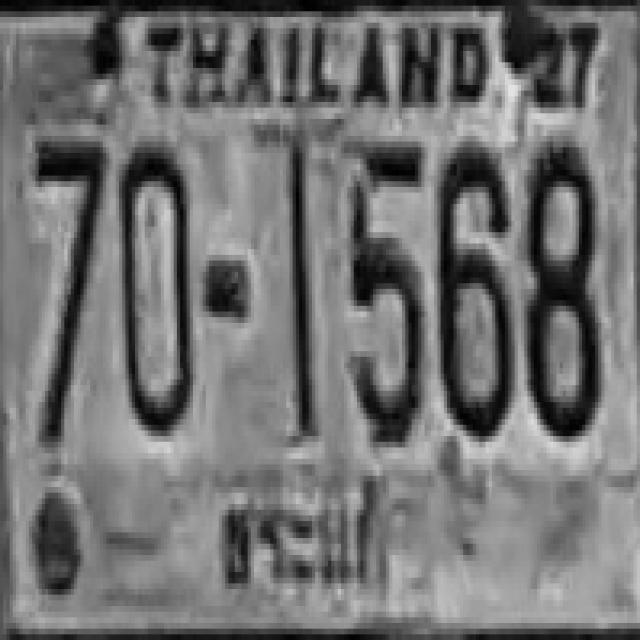0: (118, 139, 192, 433)
1: (284, 128, 314, 434)
5: (349, 138, 423, 444)
6: (436, 139, 513, 439)
7: (32, 136, 103, 436)
8: (522, 139, 600, 439)
SKW: (214, 477, 429, 593)
